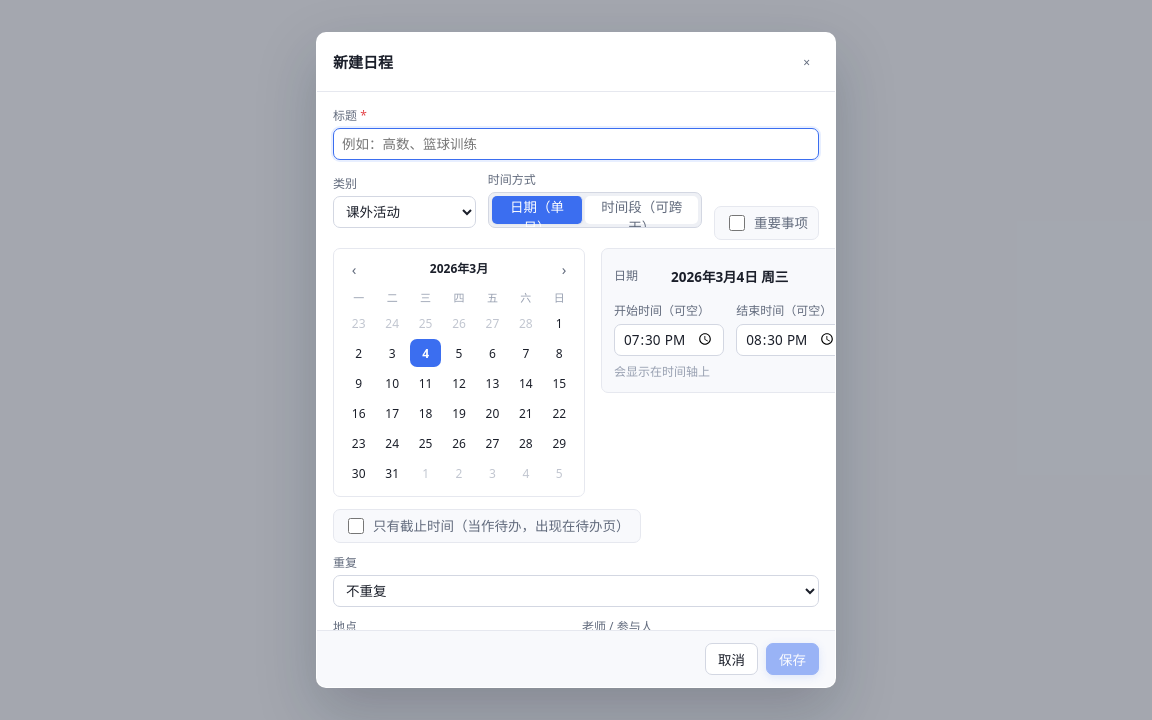
Scenario: 新建弹窗里的重复设置 › 选了每周才出现结束条件
Step 1. Select "每周" in the dropdown labelled "重复" → (576, 591), box [333,575,819,607]
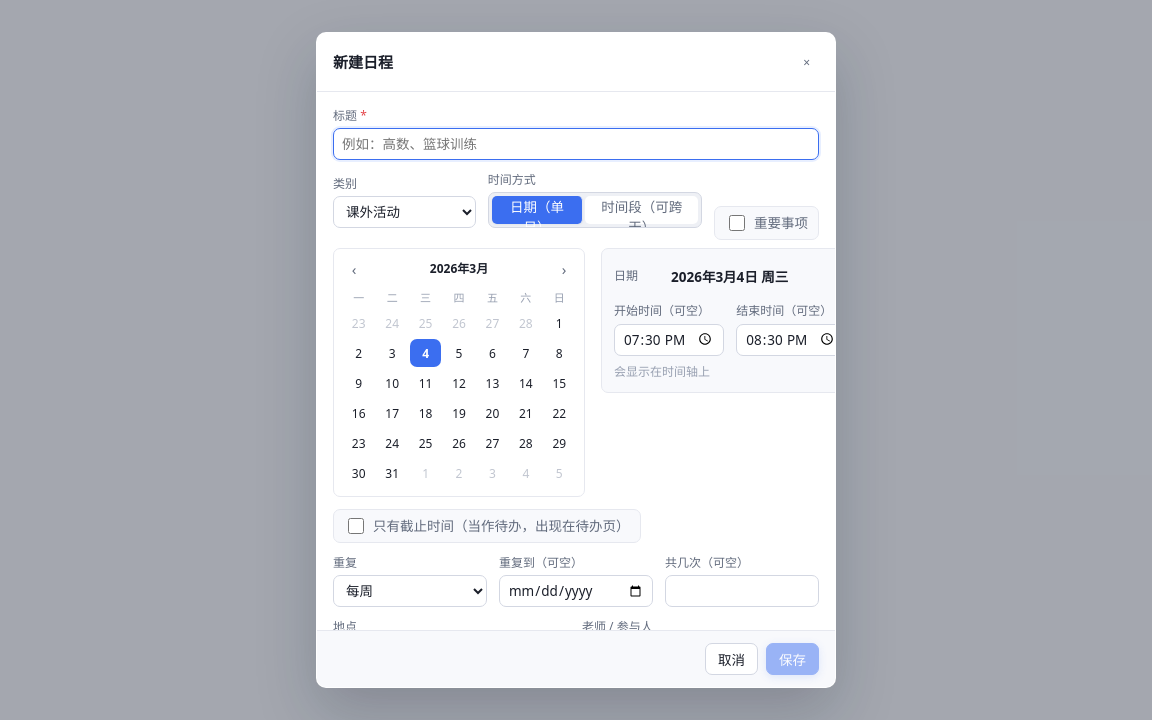
Expected: the date field labelled "重复到（可空）" is shown, [499,575,653,607]
Expected: the number field labelled "共几次（可空）" is shown, [665,575,819,607]
